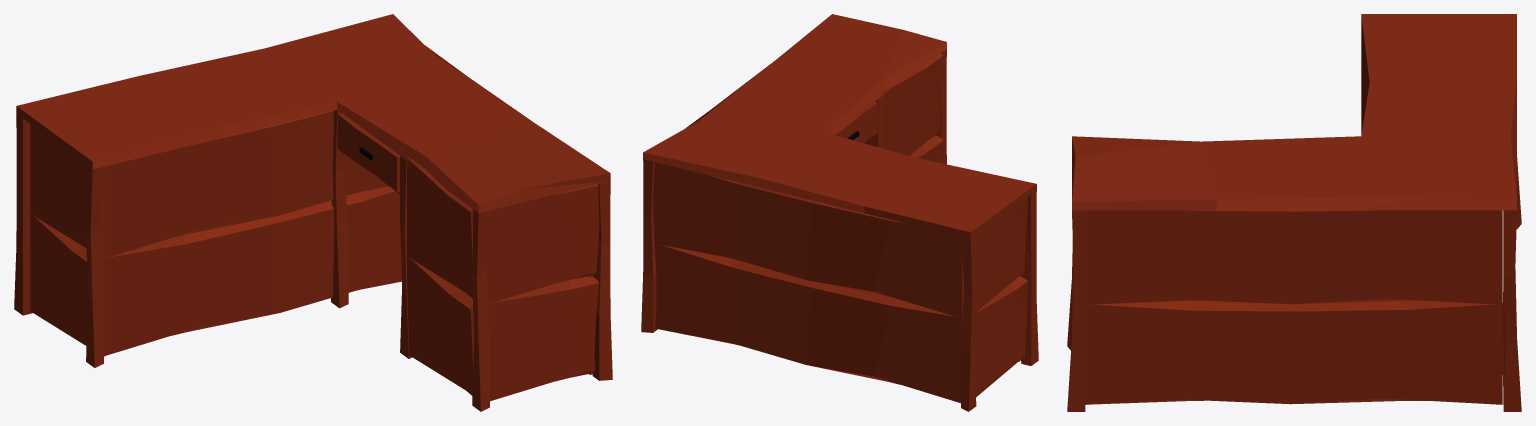
The model's file is Cashier_Lvl_1.fbx.
3 views of the same model, side by side, from view 1: azimuth 30°, elevation 25°; view 2: azimuth 150°, elevation 25°; view 3: azimuth 270°, elevation 25° (orthographic). The views are drawn at different scales.
Parts seen in each view (by area): view 1: Cube.001; view 2: Cube.001; view 3: Cube.001.
Boxes of the visible parts, bbox=[...] form: Cube.001: bbox=[14, 14, 612, 411]; Cube.001: bbox=[641, 14, 1038, 411]; Cube.001: bbox=[1067, 14, 1521, 411].
Bounding box in the file's own units: 201 × 106 × 204.
